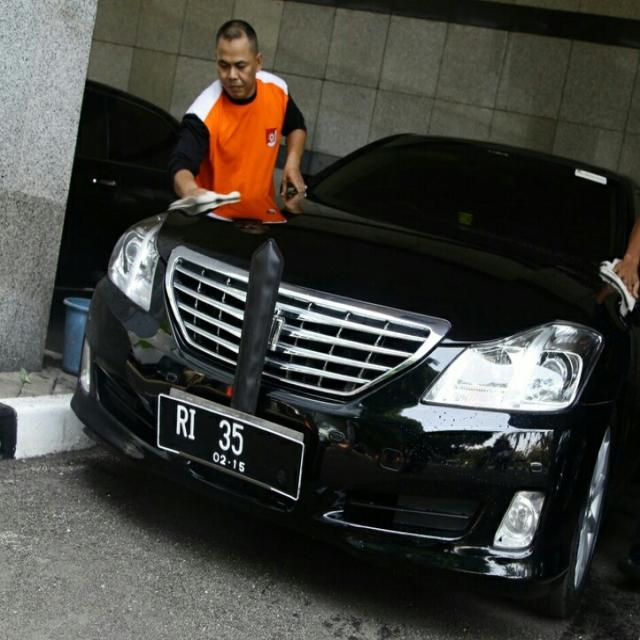plate: (158, 397, 301, 497)
